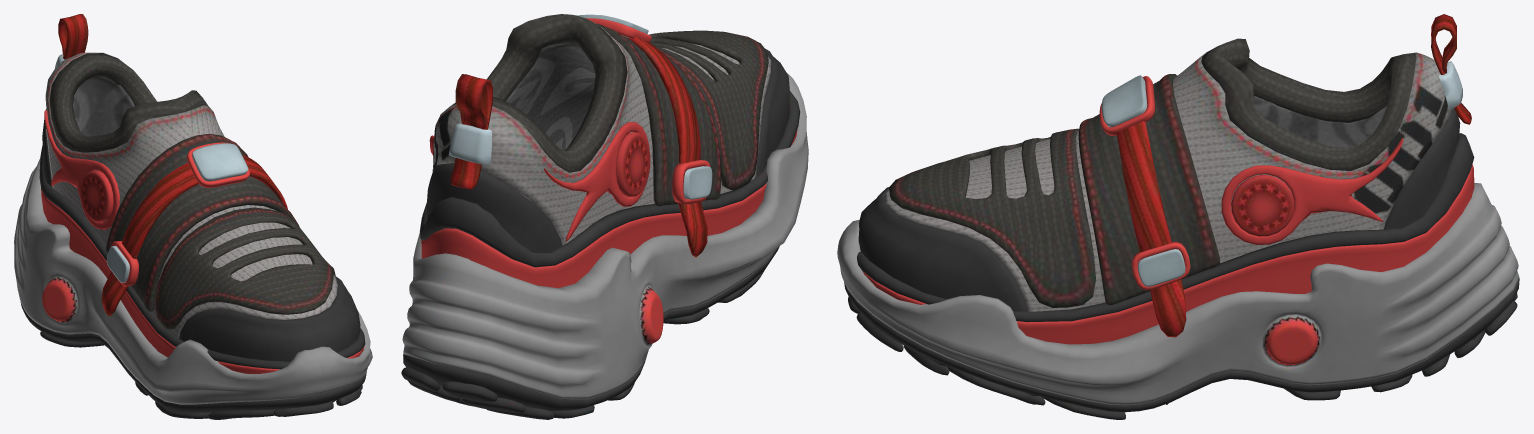
The model's file is Sepatu_01.fbx.
The picture shows the model from 3 angles, left to right: view 1: azimuth 30°, elevation 25°; view 2: azimuth 150°, elevation 25°; view 3: azimuth 270°, elevation 25°; orthographic projection. The views are drawn at different scales.
Parts seen in each view (by area): view 1: SEPATU_01; view 2: SEPATU_01; view 3: SEPATU_01.
Boxes of the visible parts, x1,y1,x2,y2 form: SEPATU_01: [14, 14, 372, 419]; SEPATU_01: [401, 14, 808, 419]; SEPATU_01: [837, 14, 1519, 419].
Size of the model in its own units: 207 by 263 by 472.
